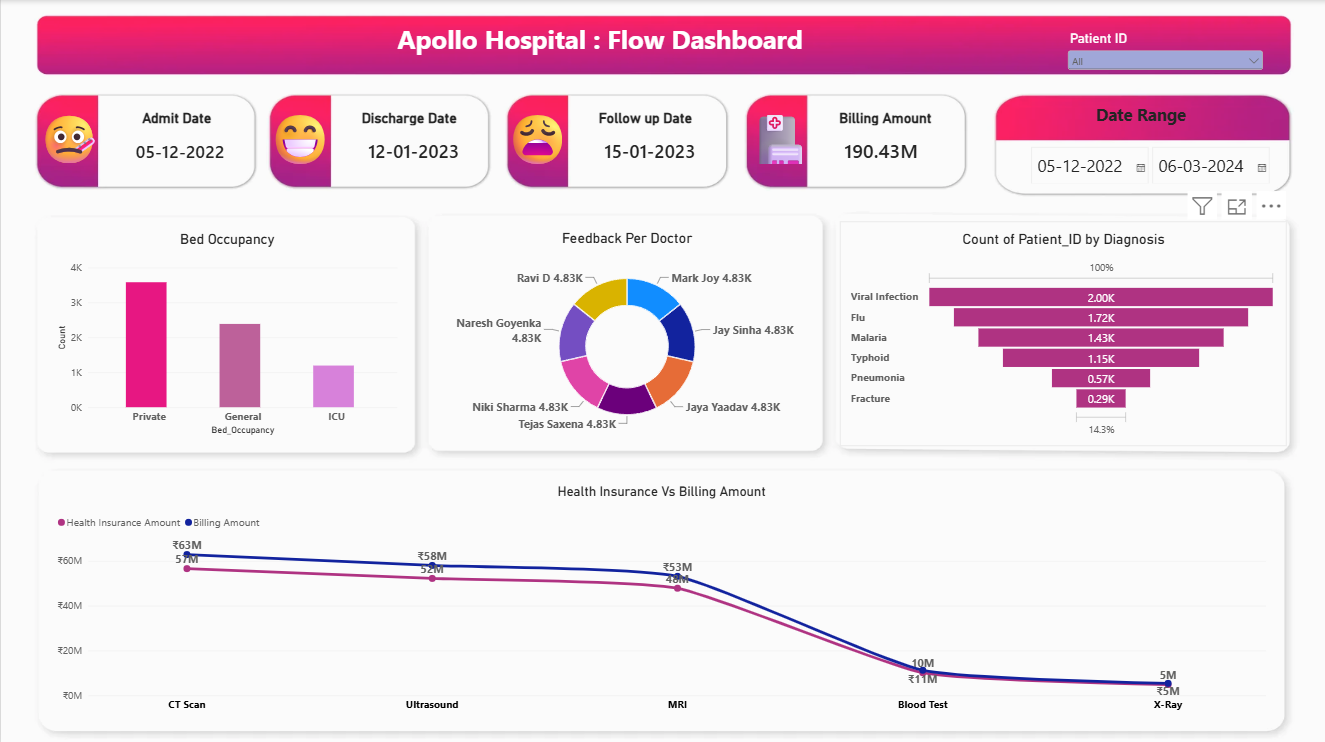

The page's visual inventory and layout, read from the dashboard file:
{"tool":"powerbi","page":{"name":"Page 1","canvas":[1920,1080],"ordinal":0},"visuals":[{"type":"columnChart","title":"Bed Occupancy","fields":{"Category":["Sheet1.Bed_Occupancy"],"Y":["CountNonNull(Sheet1.Patient_ID)"]},"box":[65.9,321.1,524.9,325.2],"z":0},{"type":"donutChart","title":"Feedback Per Doctor","fields":{"Y":["Sum(Sheet1.Feedback)"],"Category":["Sheet1.Doctor"]},"box":[623.7,321.1,564,325.2],"z":1000},{"type":"funnel","fields":{"Category":["Sheet1.Diagnosis"],"Y":["CountNonNull(Sheet1.Patient_ID)"]},"box":[1214.3,320.3,647.9,325.7],"z":2000},{"type":"lineChart","title":"Health Insurance Vs Billing Amount","fields":{"Y":["Sum(Sheet1.Health Insurance Amount)","Sum(Sheet1.Billing Amount)"],"Category":["Sheet1.Test"]},"box":[65.1,685.9,1782.5,365.6],"z":3000},{"type":"slicer","fields":{"Values":["Sheet1.Patient_ID"]},"box":[1523.7,30.8,323.9,72.4],"z":4000},{"type":"cardVisual","title":"Billing Amount","fields":{"Data":["Sum(Sheet1.Billing Amount)"]},"box":[1169,150.2,219,115.8],"z":5000},{"type":"cardVisual","title":"Follow up Date","fields":{"Data":["Min(Sheet1.Followup Date)"]},"box":[821.6,150.2,219,115.8],"z":6000},{"type":"cardVisual","title":"Discharge Date","fields":{"Data":["Min(Sheet1.Discharge_Date)"]},"box":[479.6,150.2,219,115.8],"z":7000},{"type":"cardVisual","title":"Admit Date","fields":{"Data":["Min(Sheet1.Admit_Date)"]},"box":[143,150.2,219,115.8],"z":8000},{"type":"slicer","fields":{"Values":["Sheet1.Admit_Date"]},"box":[1467.6,193.6,394.5,72.4],"z":9000},{"type":"textbox","box":[143,0,219,150],"z":10000},{"type":"textbox","box":[1467.6,150.2,365.6,43.4],"z":11000},{"type":"textbox","box":[573.7,30.8,615.3,72.4],"z":12000},{"type":"textbox","box":[50.7,150.2,92.3,132.1],"z":13000},{"type":"textbox","box":[383.6,150.2,95.9,115.8],"z":14000},{"type":"textbox","box":[727.5,150.2,94.1,115.8],"z":15000},{"type":"textbox","box":[1076.7,150.2,92.3,115.8],"z":15001}]}

Visuals, with their boxes in screenshot pixels (x1, y1, x2, y2), scaled from the page's 1920x1080 canvas onto the 1325x742 screenshot:
"Bed Occupancy" columnChart: region(45, 221, 408, 444)
"Feedback Per Doctor" donutChart: region(430, 221, 820, 444)
funnel - Sheet1.Diagnosis x CountNonNull(Sheet1.Patient_ID): region(838, 220, 1285, 444)
"Health Insurance Vs Billing Amount" lineChart: region(45, 471, 1275, 722)
slicer - Sheet1.Patient_ID: region(1052, 21, 1275, 71)
"Billing Amount" cardVisual: region(807, 103, 958, 183)
"Follow up Date" cardVisual: region(567, 103, 718, 183)
"Discharge Date" cardVisual: region(331, 103, 482, 183)
"Admit Date" cardVisual: region(99, 103, 250, 183)
slicer - Sheet1.Admit_Date: region(1013, 133, 1285, 183)
textbox: region(99, 0, 250, 103)
textbox: region(1013, 103, 1265, 133)
textbox: region(396, 21, 821, 71)
textbox: region(35, 103, 99, 194)
textbox: region(265, 103, 331, 183)
textbox: region(502, 103, 567, 183)
textbox: region(743, 103, 807, 183)
